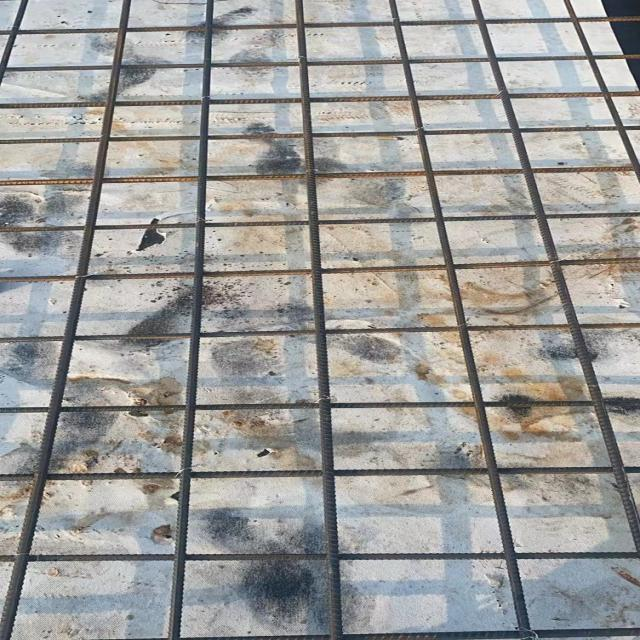ribbed bar: (469, 0, 638, 548), (386, 0, 533, 630), (0, 0, 136, 639), (164, 0, 216, 639), (293, 0, 344, 639), (0, 256, 638, 281), (0, 164, 638, 186), (0, 210, 638, 232), (0, 123, 638, 144), (0, 321, 638, 342), (561, 0, 638, 167), (0, 15, 638, 35), (0, 88, 638, 108), (0, 53, 638, 71), (0, 466, 638, 481), (0, 400, 638, 413), (0, 550, 638, 561), (102, 627, 639, 639), (0, 0, 30, 86)
